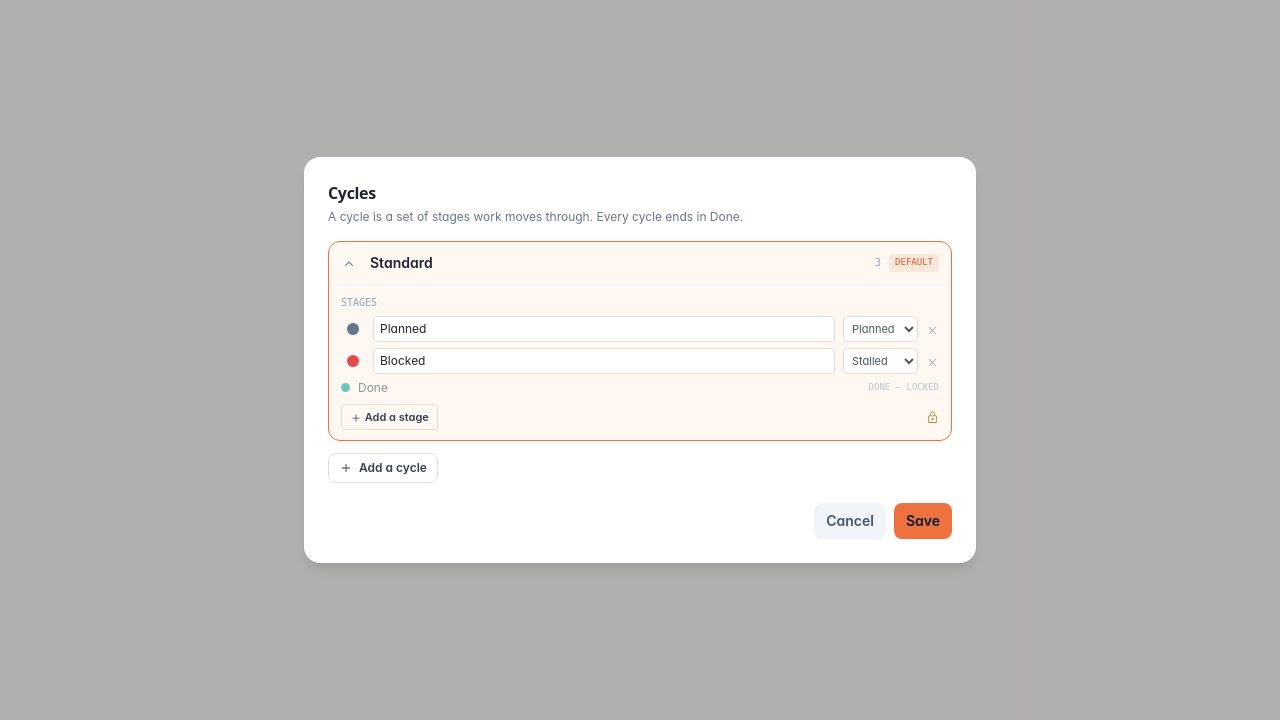
deleting a stage tasks are sitting in (CY7) › asks where the tasks go instead of deleting the stage
The width and height of the screenshot is (1280, 720).
Click the 2nd button named "Remove". click: [932, 361]
box: left=926, top=349, right=939, bottom=373
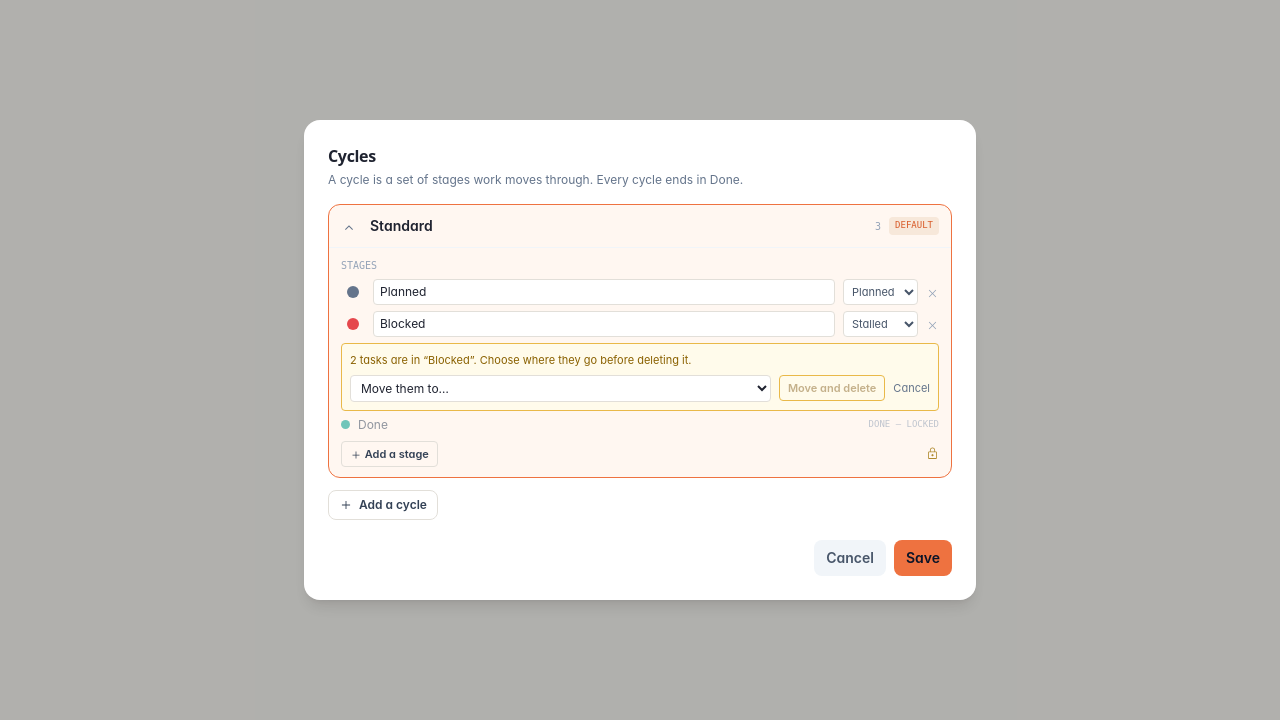
Expected: the 3rd field showing "Blocked" is shown, left=373, top=311, right=835, bottom=337
Expected: the text "2 tasks are in" is shown, left=350, top=353, right=691, bottom=367
